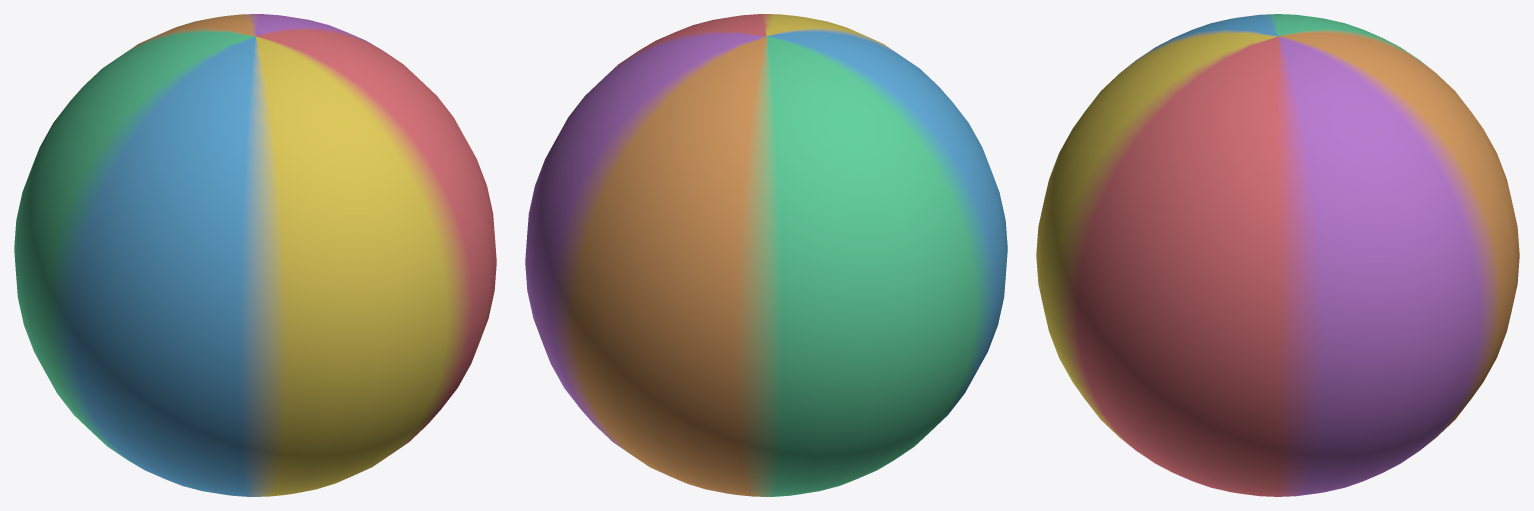
The model's file is ball.glb.
The picture shows the model from 3 angles, left to right: view 1: azimuth 30°, elevation 25°; view 2: azimuth 150°, elevation 25°; view 3: azimuth 270°, elevation 25°; orthographic projection.
Bounding box in the file's own units: 2 × 2 × 2.
